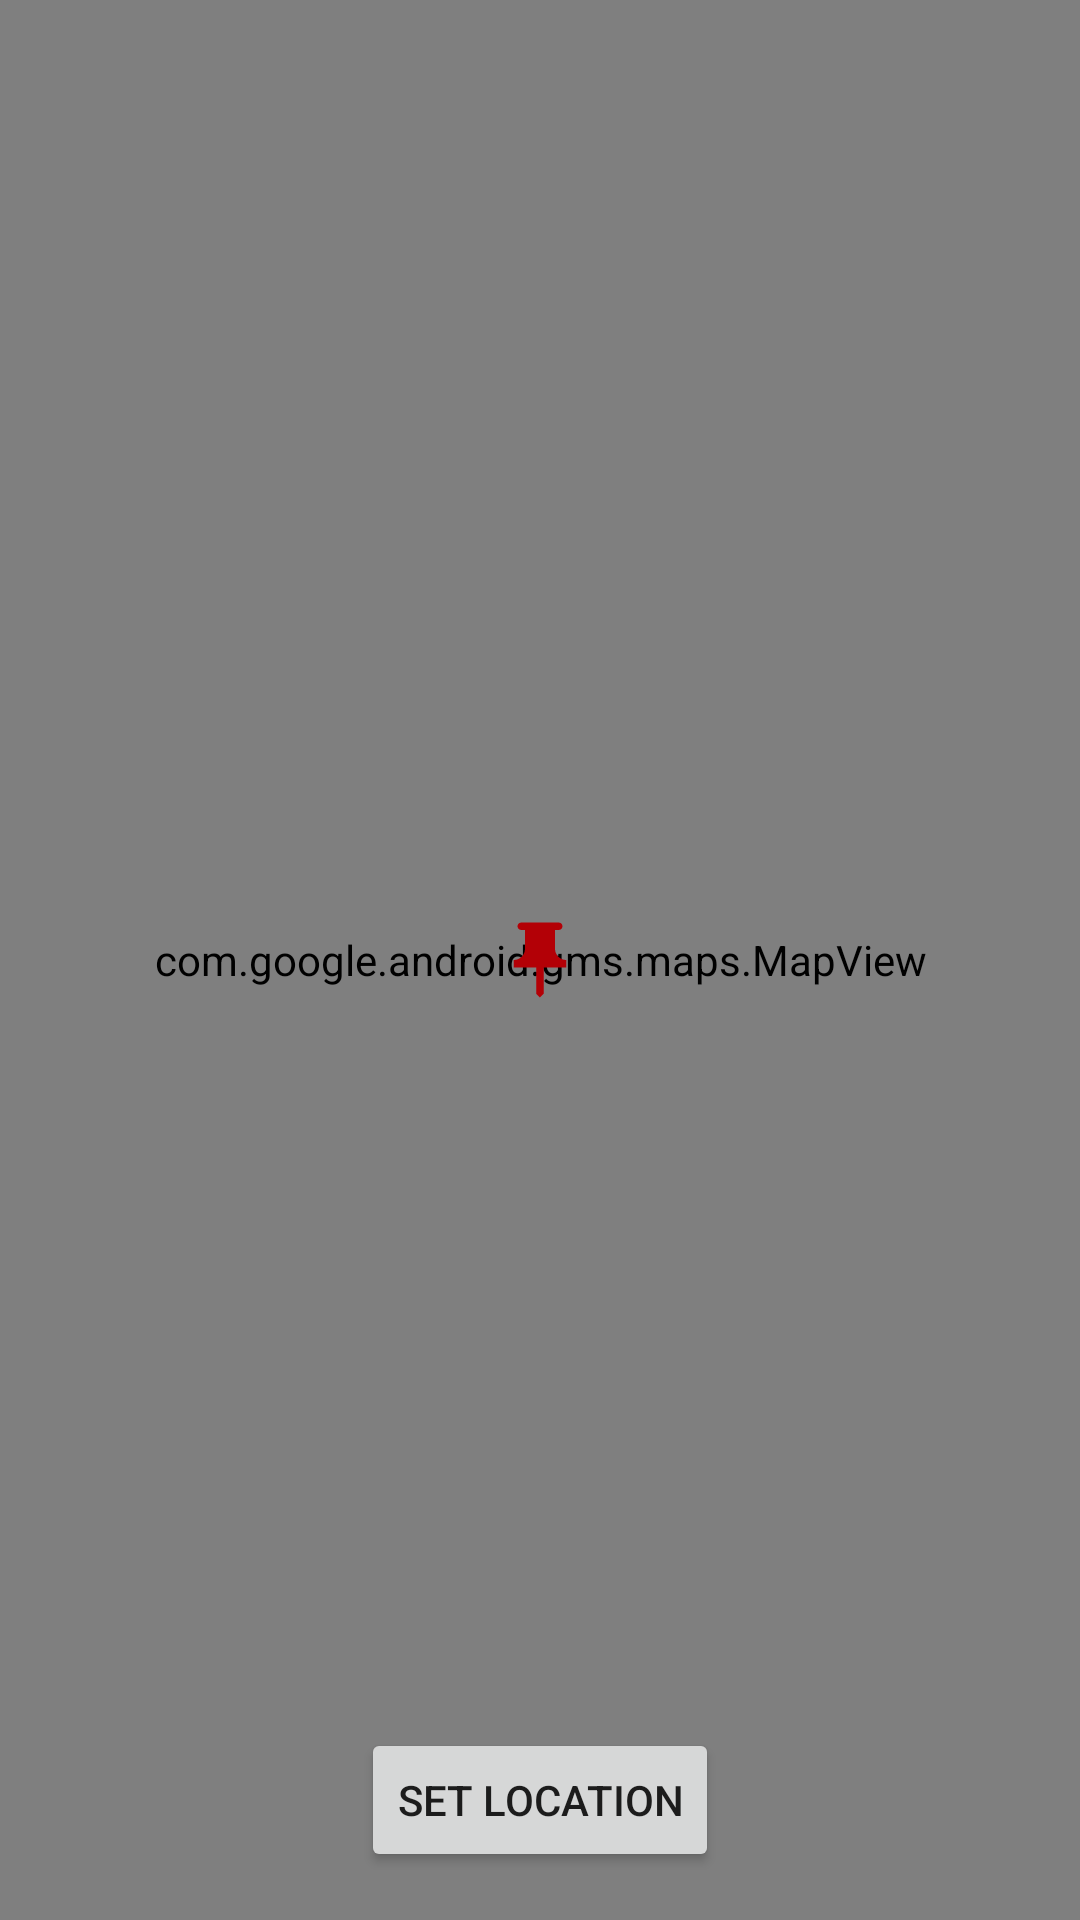

Icon click points for this 1080w x 1920h phone screenshot, format (x=x, y=y):
pin: (x=533, y=959)
